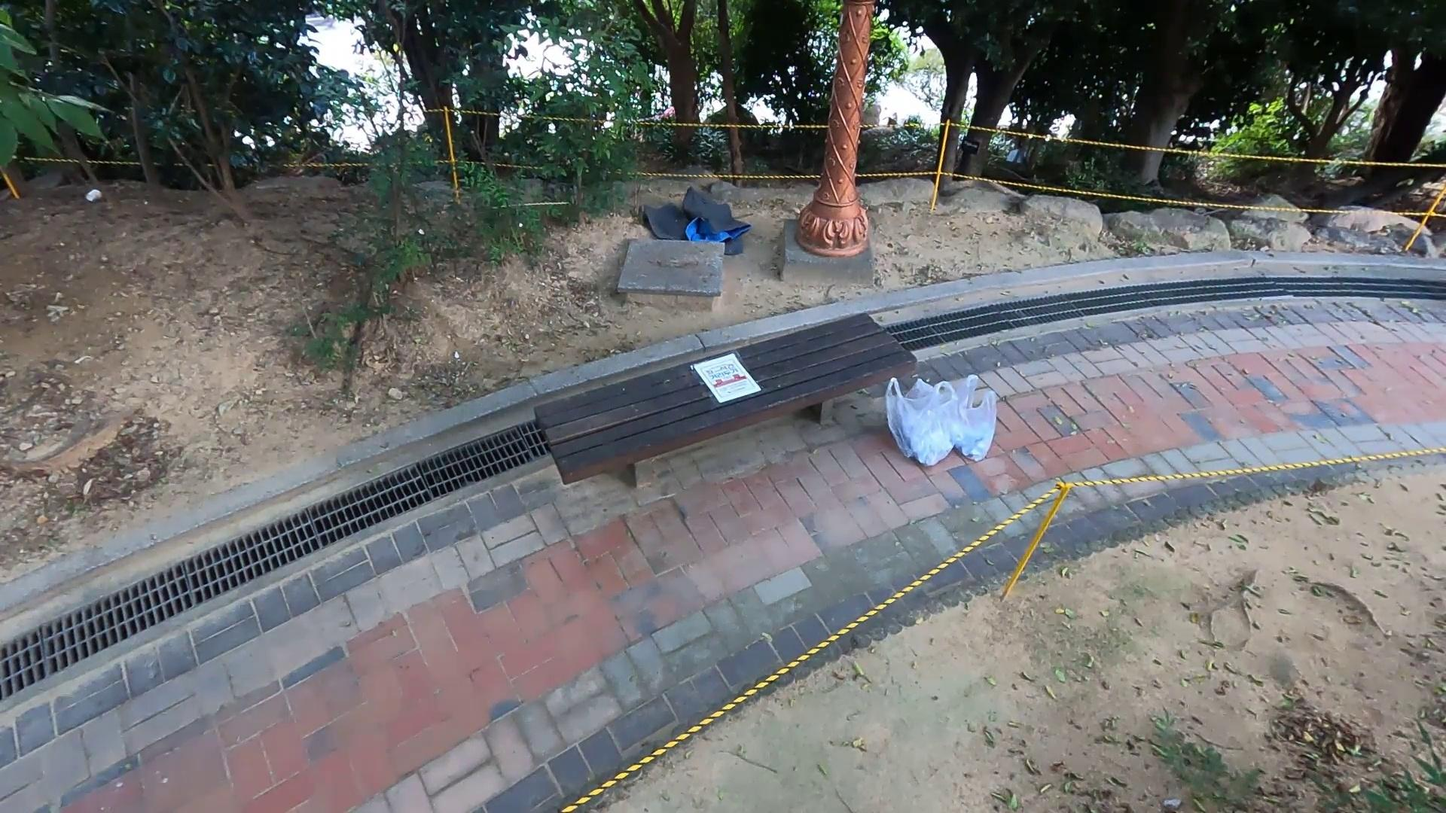trash: (635, 185, 751, 258), (885, 377, 955, 448), (911, 374, 977, 445), (898, 395, 954, 466), (950, 392, 997, 461)
